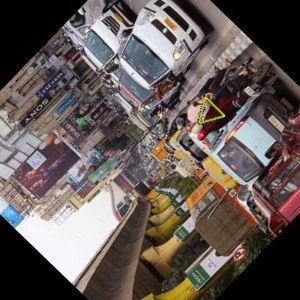triangle: (196, 94, 227, 126)
